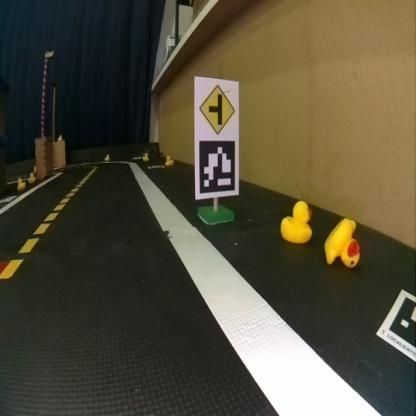Duckie: (324, 218, 358, 267), (281, 200, 311, 242), (16, 177, 25, 189), (164, 155, 174, 162), (142, 152, 149, 160), (27, 172, 33, 181), (57, 134, 62, 142), (105, 154, 110, 161)
Intersection sign: (200, 84, 234, 134)
QR code: (378, 290, 414, 345), (198, 140, 233, 192)
